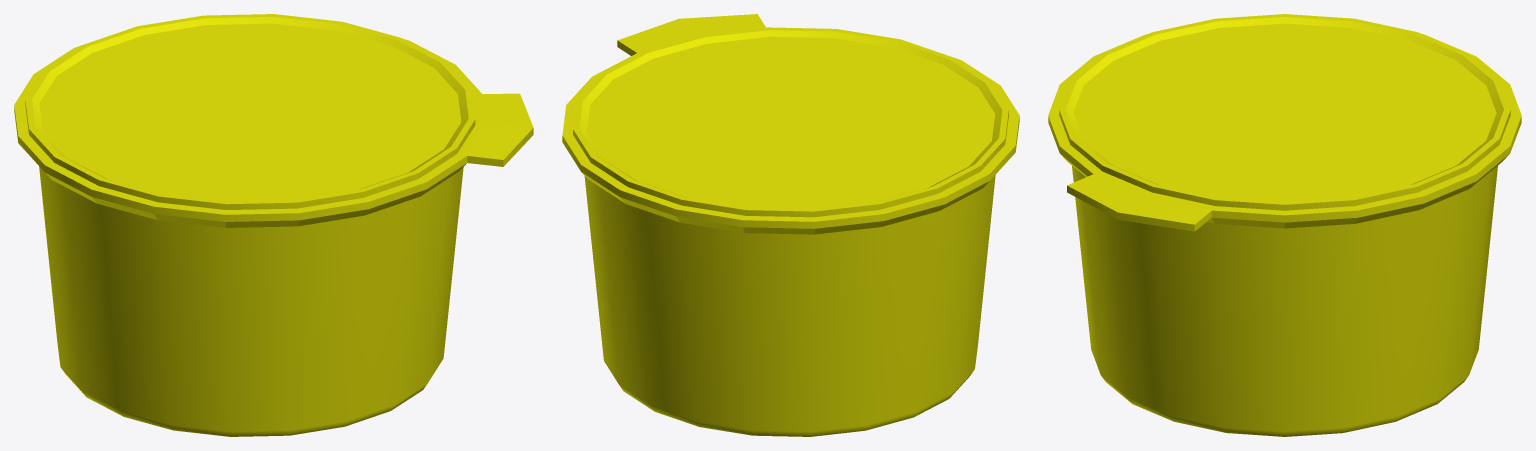
The model's file is Cooking_Tools_01_Lod0.fbx.
The picture shows the model from 3 angles, left to right: view 1: azimuth 30°, elevation 25°; view 2: azimuth 150°, elevation 25°; view 3: azimuth 270°, elevation 25°; orthographic projection. The views are drawn at different scales.
Parts seen in each view (by area): view 1: Cooking_Tools_01_Lod0; view 2: Cooking_Tools_01_Lod0; view 3: Cooking_Tools_01_Lod0.
Part boxes in pixels (box(x1,y1,x2,y2)): Cooking_Tools_01_Lod0: box(14, 14, 533, 436); Cooking_Tools_01_Lod0: box(562, 14, 1019, 436); Cooking_Tools_01_Lod0: box(1048, 14, 1521, 436).
Size of the model in its own units: 26.77 by 14.78 by 25.59.
